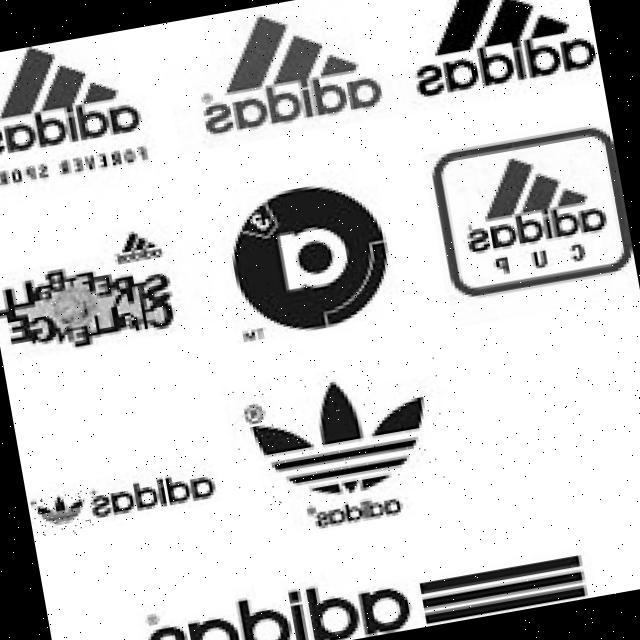Adidas: (222, 353, 458, 515), (30, 489, 98, 540)
